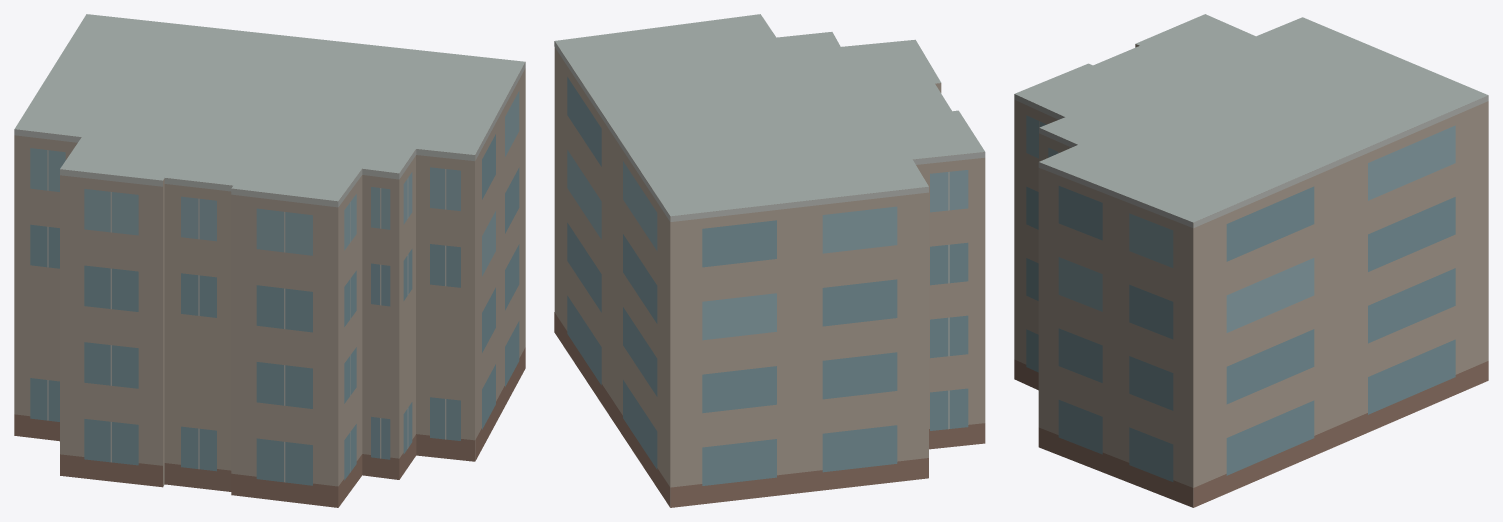
Rendered from survey-upis-32584467.glb.
3 views of the same model, side by side, from view 1: azimuth 30°, elevation 25°; view 2: azimuth 150°, elevation 25°; view 3: azimuth 270°, elevation 25° (orthographic). The views are drawn at different scales.
Visible parts, largest first — view 1: survey-upis-32584467.tmp; view 2: survey-upis-32584467.tmp; view 3: survey-upis-32584467.tmp.
Part boxes in pixels (left/top/right/bottom): survey-upis-32584467.tmp: left=14, top=14, right=525, bottom=507; survey-upis-32584467.tmp: left=554, top=14, right=985, bottom=507; survey-upis-32584467.tmp: left=1014, top=14, right=1488, bottom=507.
Bounding box in the file's own units: 19.13 × 12.2 × 18.39.
